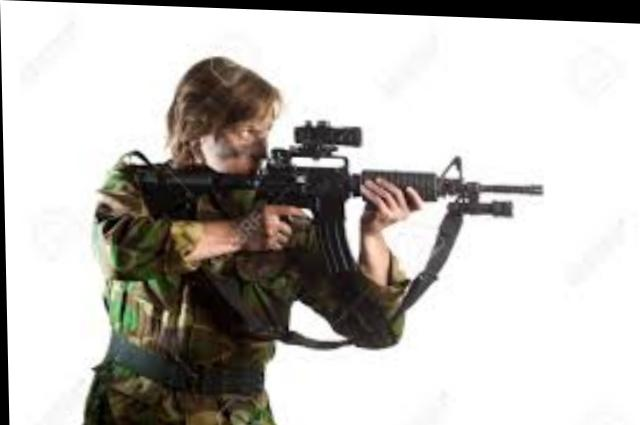other: (54, 36, 346, 424)
